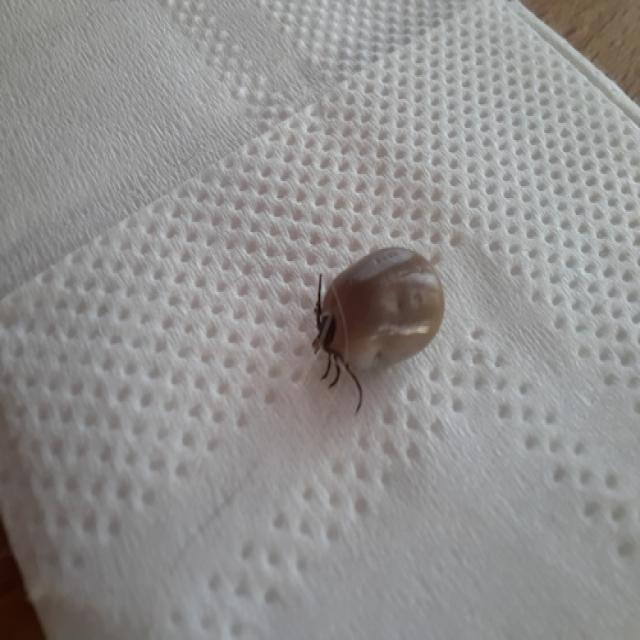Ixodes Ricinus-F-Fed: (314, 247, 445, 413)
